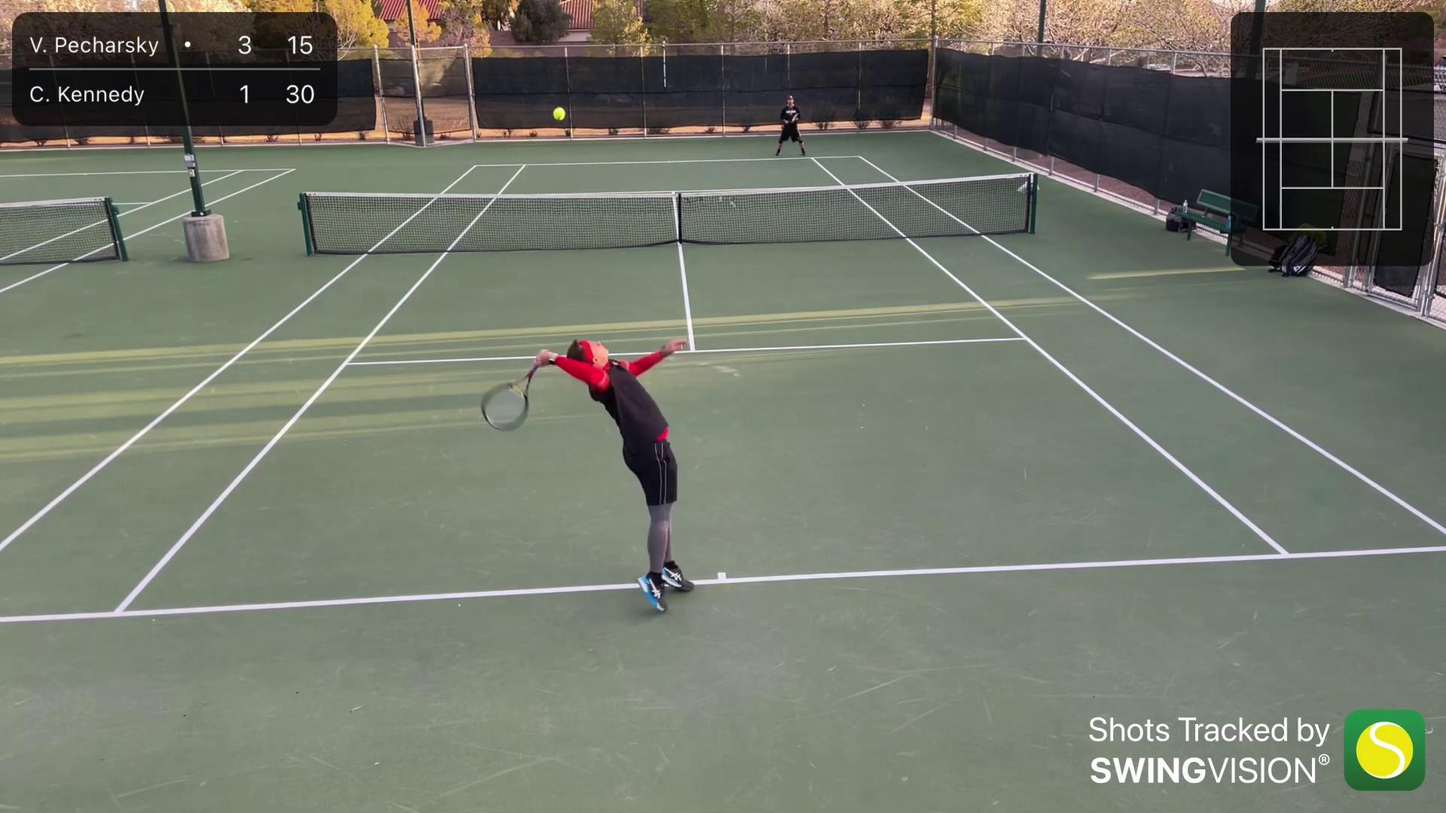ball: (551, 105, 568, 122)
